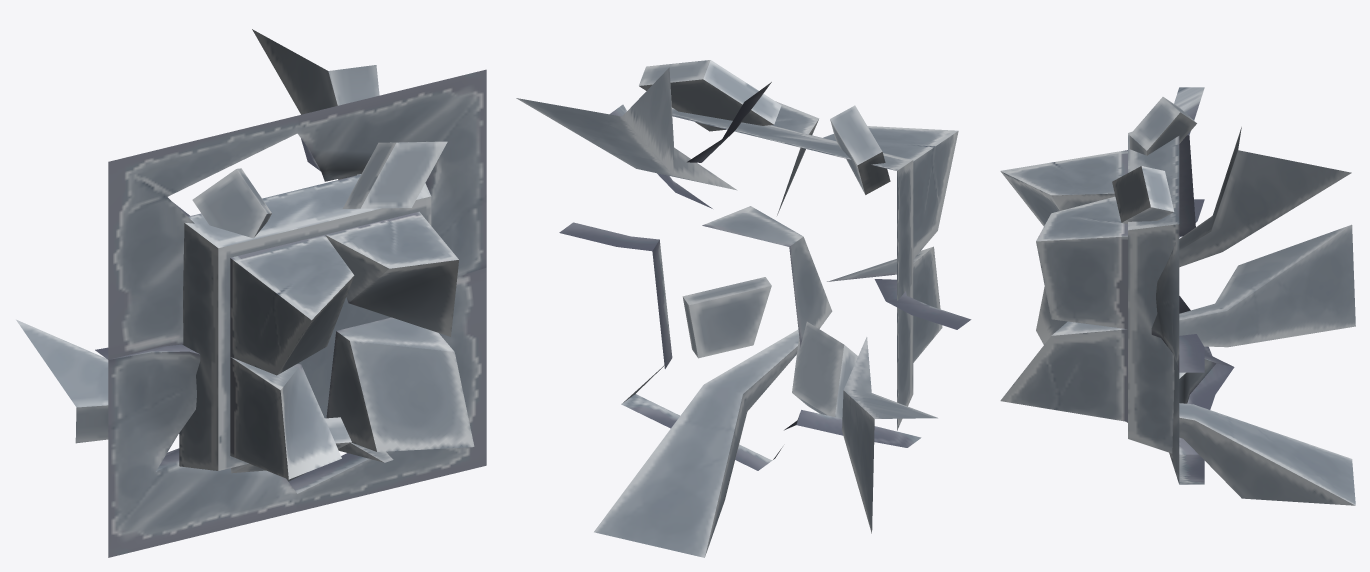
Rendered from obelisk_base.glb.
The picture shows the model from 3 angles, left to right: view 1: azimuth 30°, elevation 25°; view 2: azimuth 150°, elevation 25°; view 3: azimuth 270°, elevation 25°; orthographic projection. The views are drawn at different scales.
Parts seen in each view (by area): view 1: obsidian_obelisk.obelisk_base-MeshSets[ground_broken].Mesh[0, obsidian_obelisk.obelisk_base-MeshSets[obelisk_base].Mesh[0]; view 2: obsidian_obelisk.obelisk_base-MeshSets[ground_broken].Mesh[0, obsidian_obelisk.obelisk_base-MeshSets[obelisk_base].Mesh[0]; view 3: obsidian_obelisk.obelisk_base-MeshSets[ground_broken].Mesh[0, obsidian_obelisk.obelisk_base-MeshSets[obelisk_base].Mesh[0].
Boxes of the visible parts, x1,y1,x2,y2 form: obsidian_obelisk.obelisk_base-MeshSets[ground_broken].Mesh[0: (16,29,486,557); obsidian_obelisk.obelisk_base-MeshSets[obelisk_base].Mesh[0]: (179,174,474,479); obsidian_obelisk.obelisk_base-MeshSets[ground_broken].Mesh[0: (516,60,971,557); obsidian_obelisk.obelisk_base-MeshSets[obelisk_base].Mesh[0]: (672,101,958,430); obsidian_obelisk.obelisk_base-MeshSets[ground_broken].Mesh[0: (1112,87,1355,505); obsidian_obelisk.obelisk_base-MeshSets[obelisk_base].Mesh[0]: (1000,132,1179,453).
Size of the model in its own units: 2 by 2.03 by 1.74.
1 material, 1 textured.
